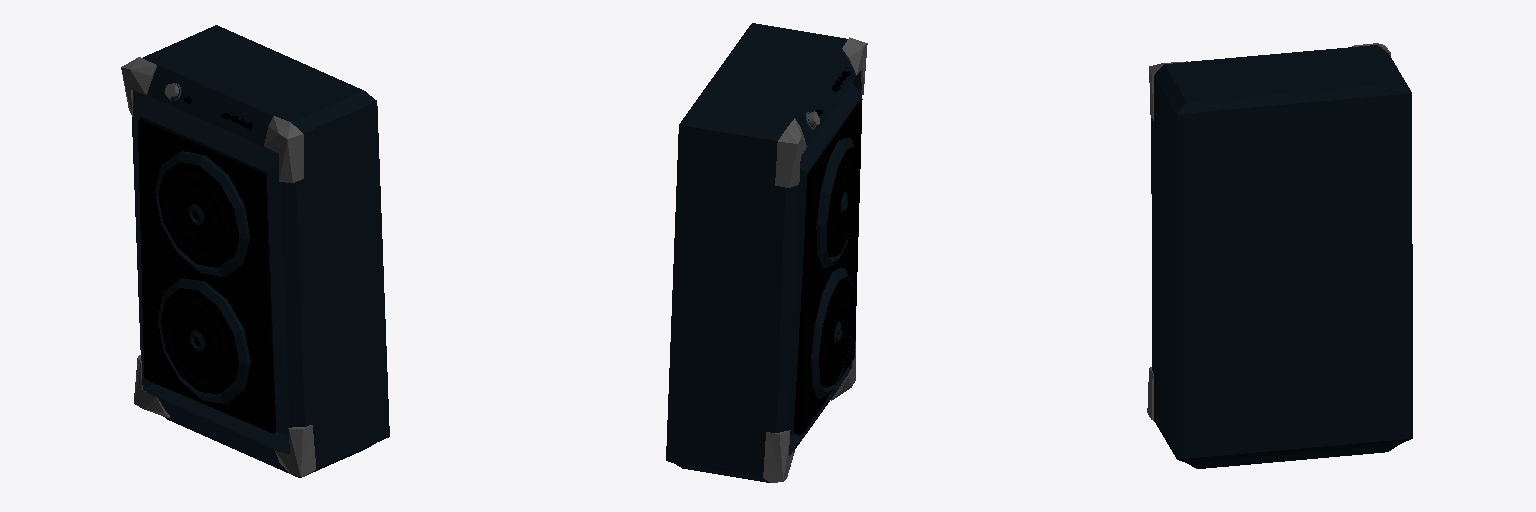
3 renders of one model, left to right at view 1: azimuth 30°, elevation 25°; view 2: azimuth 150°, elevation 25°; view 3: azimuth 270°, elevation 25°, orthographic.
Parts seen in each view (by area): view 1: group[number redacted]; view 2: group[number redacted]; view 3: group[number redacted].
Part boxes in pixels (bbox=[...]): group[number redacted]: bbox=[121, 25, 389, 477]; group[number redacted]: bbox=[666, 23, 867, 482]; group[number redacted]: bbox=[1147, 43, 1412, 468].
Bounding box in the file's own units: 0.2004 × 0.4274 × 0.2793.